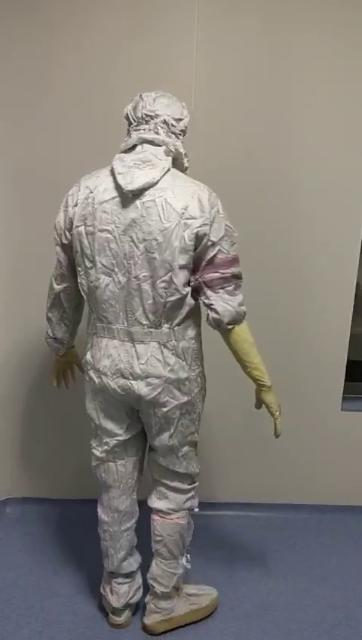boot_not_secured: (82, 518, 158, 632)
boot_secured: (144, 480, 202, 640)
gloves_fitted_securely: (206, 286, 292, 442)
gloves_not_fitted_securely: (28, 300, 95, 420)
headgear_not_secured_backside: (96, 89, 214, 208)
